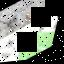Morning glory: (0, 10, 61, 64)
